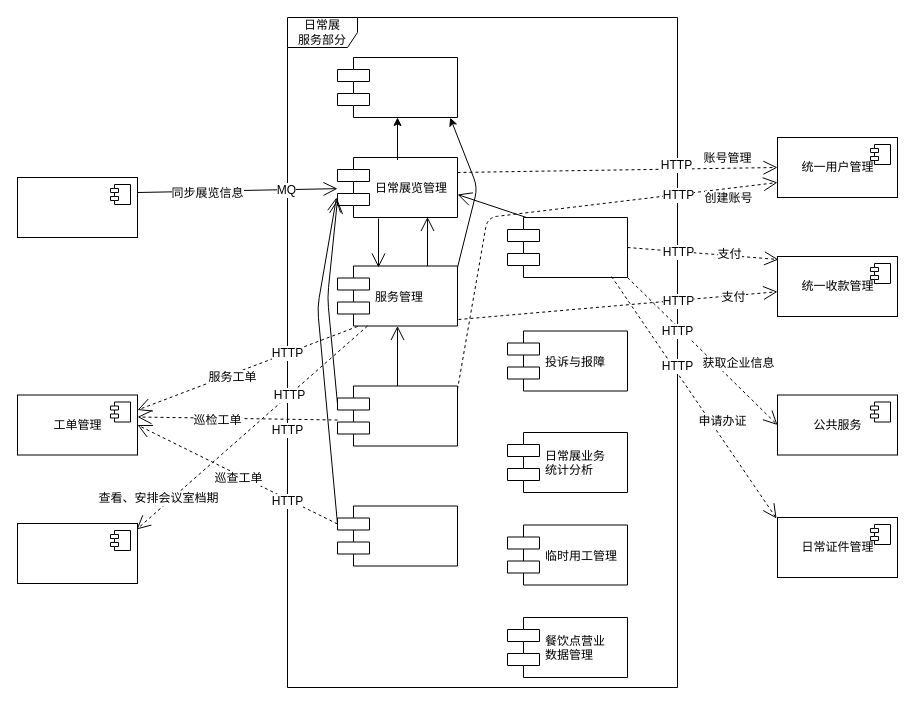
The diagram is 915 pixels wide and 705 high, and some of its shapes have lost their labels. The centre of each missing label's shape, as x and y in pixels:
"会议室管理" goes at (77,553).
"审图管理" goes at (567,247).
"展会评估" goes at (397,535).
"巡检管理" goes at (397,415).
"日常展 营销部分" goes at (77,207).
"结算管理" goes at (397,87).
